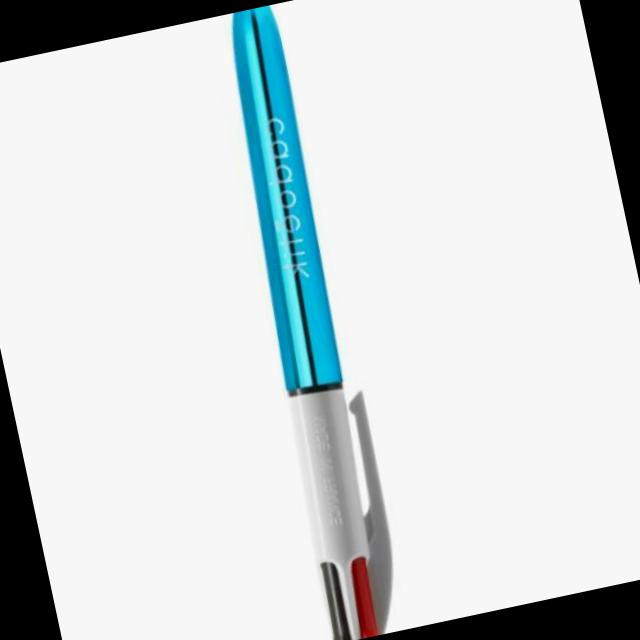Pen - Non Recyclable: (187, 0, 427, 640)
